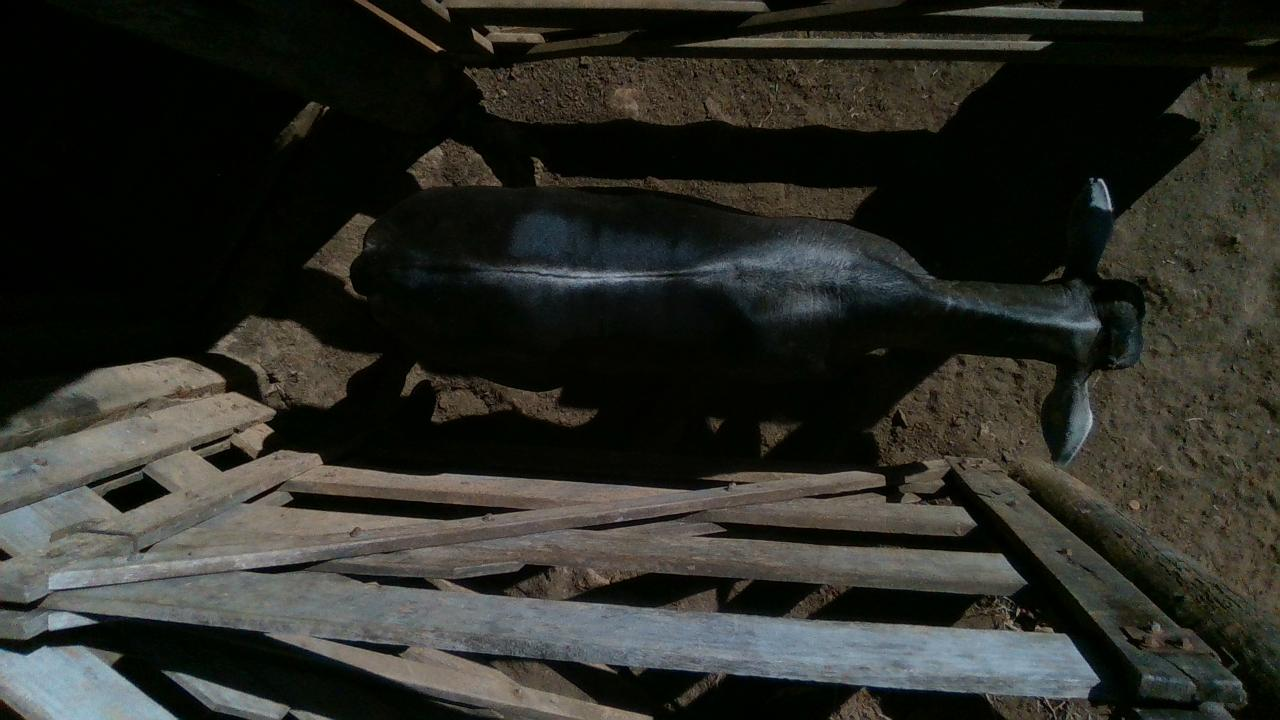cattle: (347, 178, 1145, 467)
